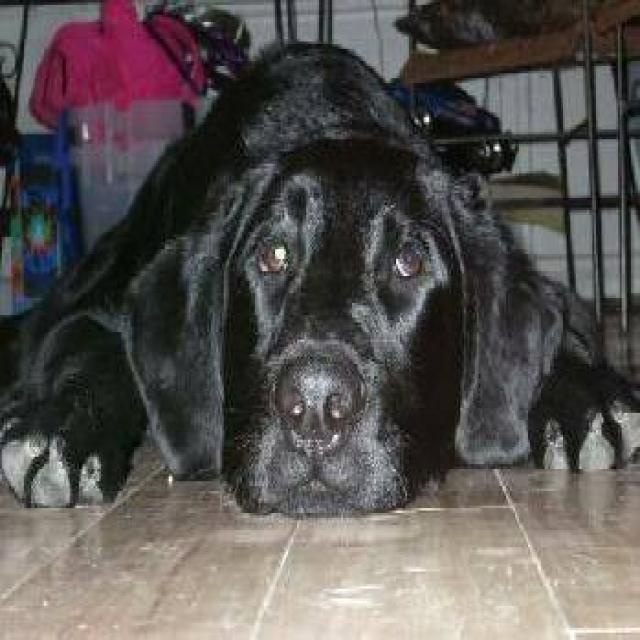Dog: (115, 122, 553, 524)
